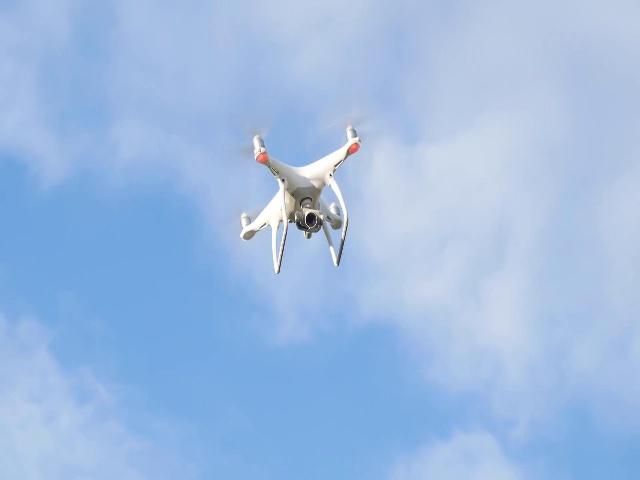drone: (224, 118, 375, 275)
